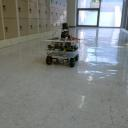cart: (44, 39, 80, 68)
